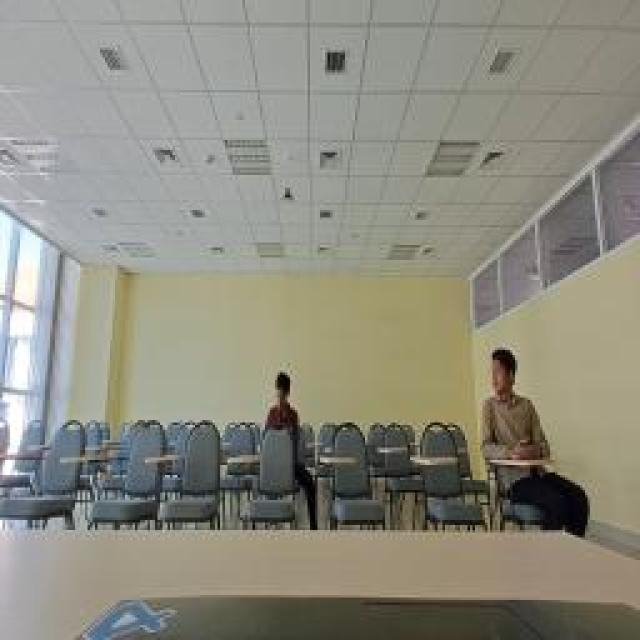study: (480, 348, 548, 460), (260, 368, 298, 430)
